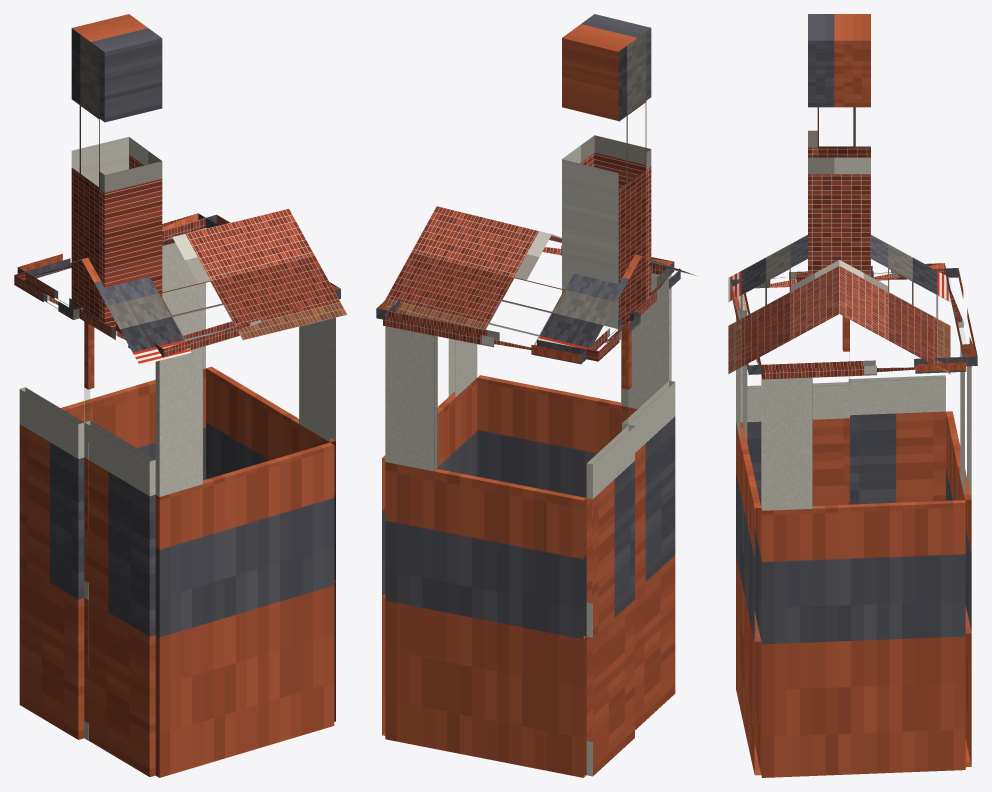
3 views of the same model, side by side, from view 1: azimuth 30°, elevation 25°; view 2: azimuth 150°, elevation 25°; view 3: azimuth 270°, elevation 25° (orthographic). The views are drawn at different scales.
Visible parts, largest first — view 1: 1106966930__wall_0_xb, 1106966930__wall_1_xb, 1106966930__chimney_0_xb, 1106966930__wall_3_xb, 1106966930_roof_-1_xb, 1106966930__wall_5_xb, 1106966930__wall_4_xb, 1106966930__wall_2_xb, 1106966930__cornice_4, 1106966930__cornice_0, 1106966930__cornice_3; view 2: 1106966930__wall_4_xb, 1106966930__chimney_0_xb, 1106966930__wall_0_xb, 1106966930_roof_1_xb, 1106966930__wall_3_xb, 1106966930__wall_1_xb, 1106966930__wall_5_xb, 1106966930__cornice_4, 1106966930__cornice_3, 1106966930__wall_2_xb, 1106966930__cornice_1; view 3: 1106966930__wall_5_xb, 1106966930__chimney_0_xb, 1106966930__wall_3_xb, 1106966930__wall_0_xb, 1106966930_roof_-1_xb, 1106966930_roof_1_xb, 1106966930__wall_1_xb, 1106966930__wall_4_xb, 1106966930__cornice_5, 1106966930__cornice_4, 1106966930__wall_2_xb, 1106966930__cornice_0.
Part boxes in pixels (x1=…): 1106966930__wall_0_xb: x1=155, y1=347, x2=334, y2=777; 1106966930__wall_1_xb: x1=84, y1=420, x2=155, y2=776; 1106966930__chimney_0_xb: x1=71, y1=14, x2=162, y2=329; 1106966930__wall_3_xb: x1=19, y1=387, x2=84, y2=739; 1106966930_roof_-1_xb: x1=81, y1=208, x2=347, y2=365; 1106966930__wall_5_xb: x1=206, y1=317, x2=335, y2=721; 1106966930__wall_4_xb: x1=60, y1=228, x2=205, y2=480; 1106966930__wall_2_xb: x1=84, y1=321, x2=94, y2=740; 1106966930__cornice_4: x1=17, y1=213, x2=205, y2=278; 1106966930__cornice_0: x1=155, y1=305, x2=307, y2=357; 1106966930__cornice_3: x1=14, y1=272, x2=82, y2=319; 1106966930__wall_4_xb: x1=385, y1=326, x2=586, y2=777; 1106966930__chimney_0_xb: x1=562, y1=14, x2=651, y2=328; 1106966930__wall_0_xb: x1=477, y1=273, x2=671, y2=497; 1106966930_roof_1_xb: x1=384, y1=206, x2=641, y2=349; 1106966930__wall_3_xb: x1=586, y1=425, x2=634, y2=776; 1106966930__wall_1_xb: x1=622, y1=380, x2=675, y2=729; 1106966930__wall_5_xb: x1=382, y1=338, x2=477, y2=735; 1106966930__cornice_4: x1=383, y1=311, x2=586, y2=364; 1106966930__cornice_3: x1=586, y1=312, x2=640, y2=361; 1106966930__wall_2_xb: x1=622, y1=321, x2=631, y2=389; 1106966930__cornice_1: x1=630, y1=268, x2=680, y2=321; 1106966930__wall_5_xb: x1=761, y1=375, x2=965, y2=777; 1106966930__chimney_0_xb: x1=808, y1=14, x2=870, y2=276; 1106966930__wall_3_xb: x1=848, y1=375, x2=945, y2=504; 1106966930__wall_0_xb: x1=736, y1=294, x2=761, y2=775; 1106966930_roof_-1_xb: x1=728, y1=235, x2=839, y2=373; 1106966930_roof_1_xb: x1=839, y1=235, x2=950, y2=374; 1106966930__wall_1_xb: x1=747, y1=382, x2=849, y2=506; 1106966930__wall_4_xb: x1=946, y1=344, x2=971, y2=767; 1106966930__cornice_5: x1=761, y1=357, x2=966, y2=379; 1106966930__cornice_4: x1=946, y1=268, x2=977, y2=366; 1106966930__wall_2_xb: x1=842, y1=316, x2=849, y2=485; 1106966930__cornice_0: x1=730, y1=279, x2=761, y2=374.
Size of the model in its own units: 0.6016 by 1.75 by 0.5922.
1 material, 1 textured.
